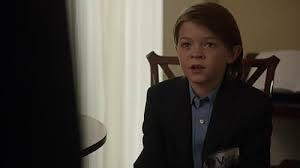person: (164, 0, 246, 85)
